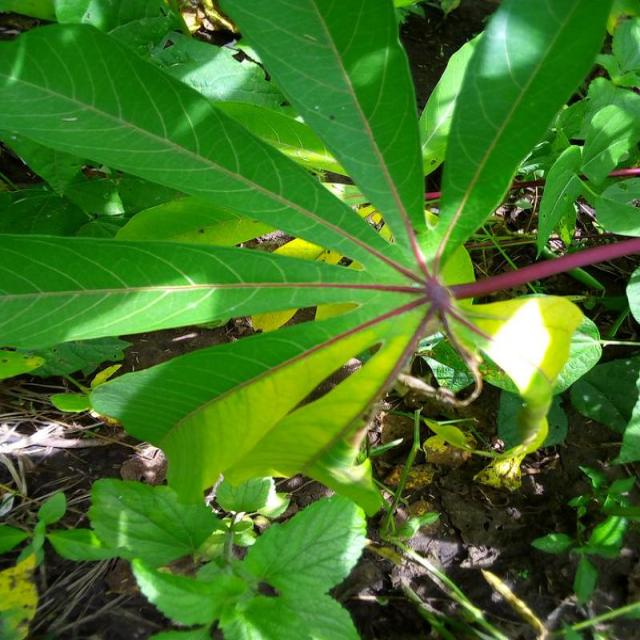cassava leaf: (2, 0, 628, 522)
